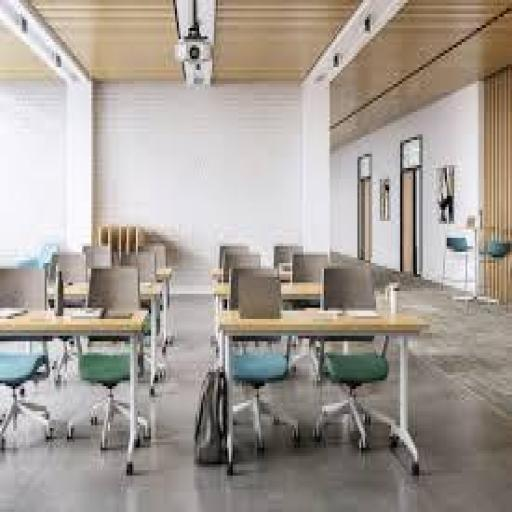chair: (78, 256, 156, 466), (316, 260, 393, 459), (232, 264, 302, 458)
